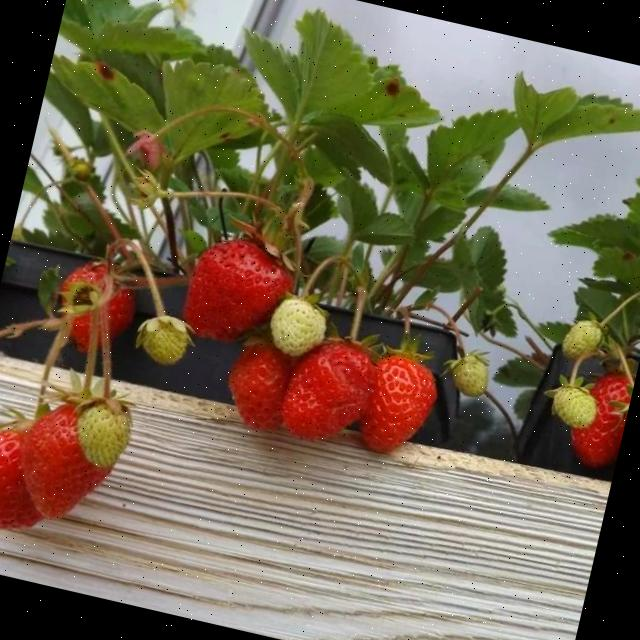Ripe Strawberry: (178, 232, 296, 352), (15, 397, 122, 527), (278, 334, 382, 450), (49, 258, 140, 359), (358, 351, 440, 459), (0, 424, 60, 538), (566, 368, 634, 468), (222, 342, 292, 431)
